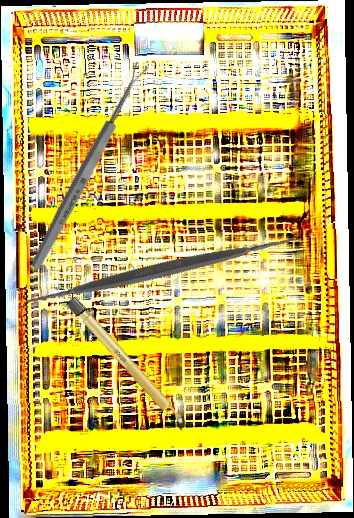Scalpel Handle: (64, 294, 189, 431)
Spatula Surgical: (14, 123, 309, 419)
Surgical Spoon: (27, 60, 151, 272)
